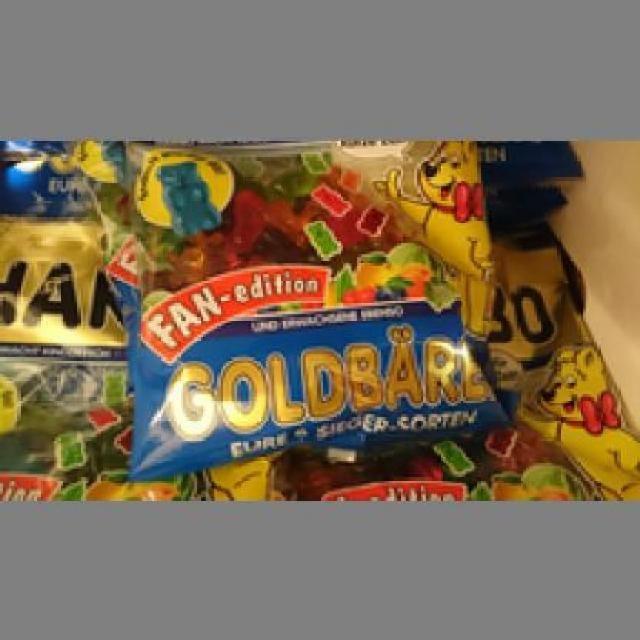Candy: (120, 132, 517, 474)
